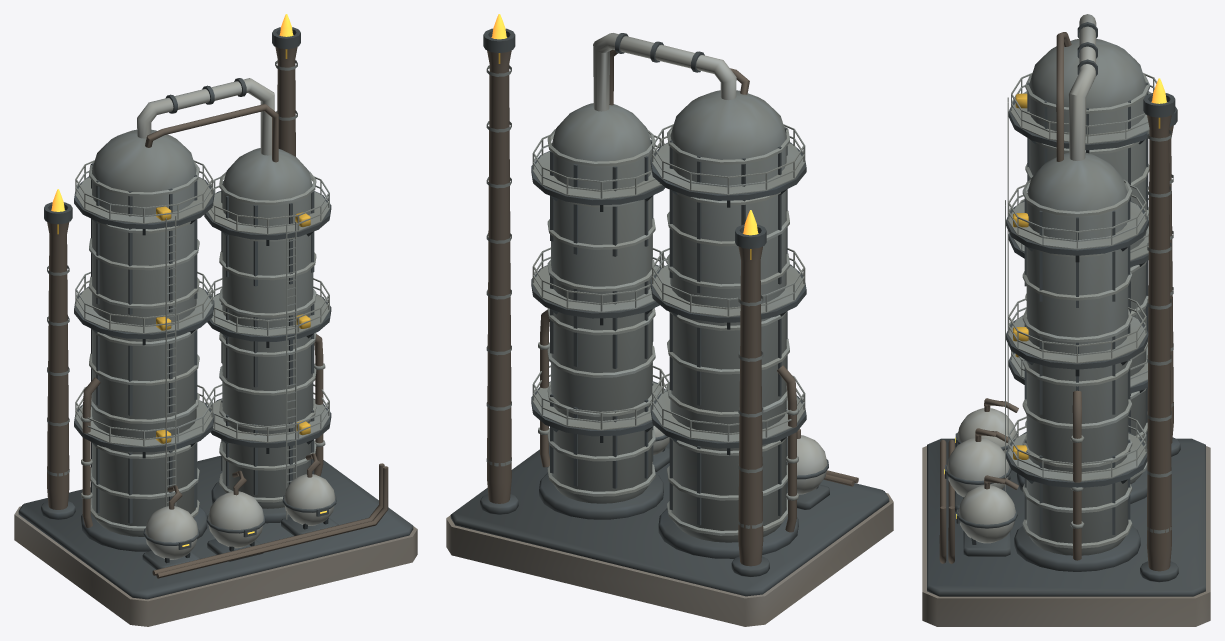
File: refinery_tower_cluster.glb
3 views of the same model, side by side, from view 1: azimuth 30°, elevation 25°; view 2: azimuth 150°, elevation 25°; view 3: azimuth 270°, elevation 25° (orthographic). The views are drawn at different scales.
Parts seen in each view (by area): view 1: Catalytic column 1, Catalytic column 2, Foundation, Flare stacks, Pressure vessel bank, Overhead manifolds and service lines; view 2: Catalytic column 1, Catalytic column 2, Foundation, Flare stacks, Overhead manifolds and service lines, Pressure vessel bank; view 3: Catalytic column 2, Foundation, Catalytic column 1, Flare stacks, Pressure vessel bank, Overhead manifolds and service lines.
Boxes of the visible parts, box(x1,y1,x2,y2) form: Catalytic column 1: box(74, 129, 214, 551); Catalytic column 2: box(204, 148, 331, 523); Foundation: box(14, 455, 417, 626); Flare stacks: box(41, 14, 300, 519); Pressure vessel bank: box(142, 453, 338, 569); Overhead manifolds and service lines: box(137, 78, 388, 578); Catalytic column 1: box(650, 90, 806, 558); Catalytic column 2: box(531, 103, 669, 519); Foundation: box(446, 442, 893, 626); Flare stacks: box(480, 14, 769, 576); Overhead manifolds and service lines: box(593, 33, 858, 486); Pressure vessel bank: box(652, 426, 829, 509); Catalytic column 2: box(1005, 152, 1148, 571); Foundation: box(922, 438, 1210, 626); Catalytic column 1: box(1007, 39, 1156, 503); Flare stacks: box(1140, 78, 1180, 582); Pressure vessel bank: box(944, 398, 1018, 556); Overhead manifolds and service lines: box(939, 14, 1097, 563).
Size of the model in its own units: 18 by 28.45 by 14.
